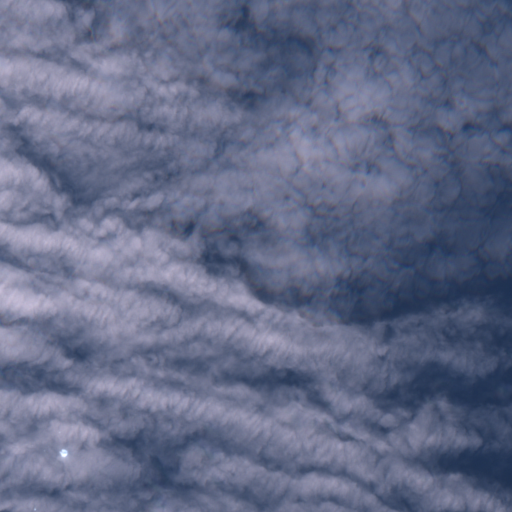Iceberg: (60, 449, 67, 456), (34, 508, 35, 509)
